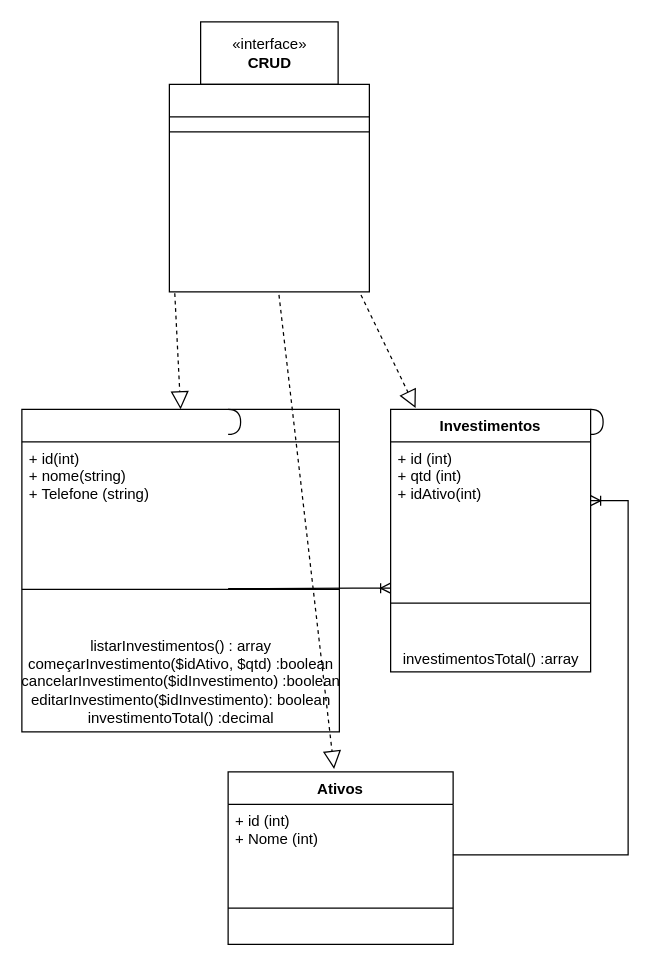
Image size: 660x966. Some labels were removed from this diagram. The box of each missing label's shape, as (x1, y1, x2, y2) in pixels:
+ criar() :void + editar() :void + listar() :void + deletar() :void: (168, 83, 369, 292)
Clientes: (21, 408, 339, 732)
